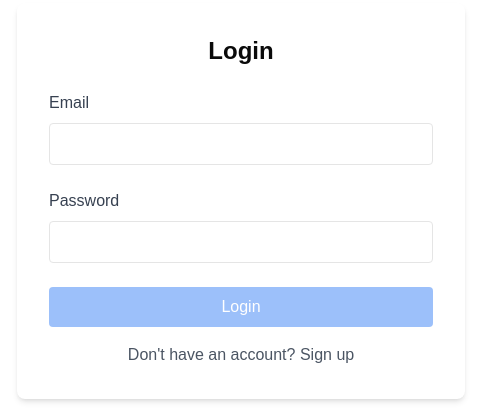
Test: LoginPage › enables submit button when form is valid
The width and height of the screenshot is (483, 420).
Check: the button "Login" is disabled, box [49,287,433,327]
Fill in valid form data
Type "test@example.com" into the field labelled "Email" at (241, 144), box [49,123,433,165]
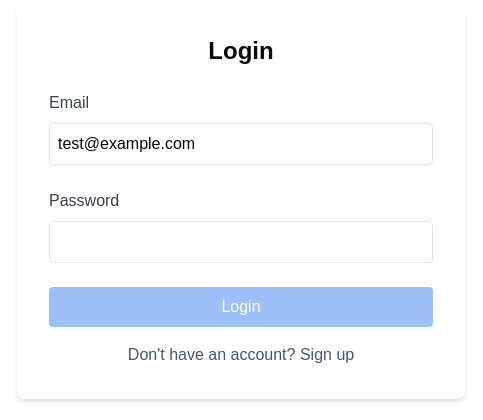
Type "password123" into the password field labelled "Password" at (241, 242), box [49,221,433,263]
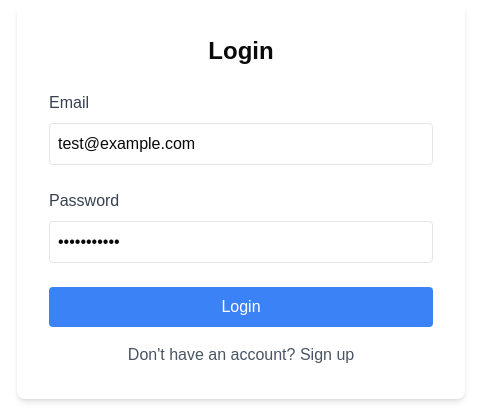
Check: the button "Login" is enabled, box [49,287,433,327]
